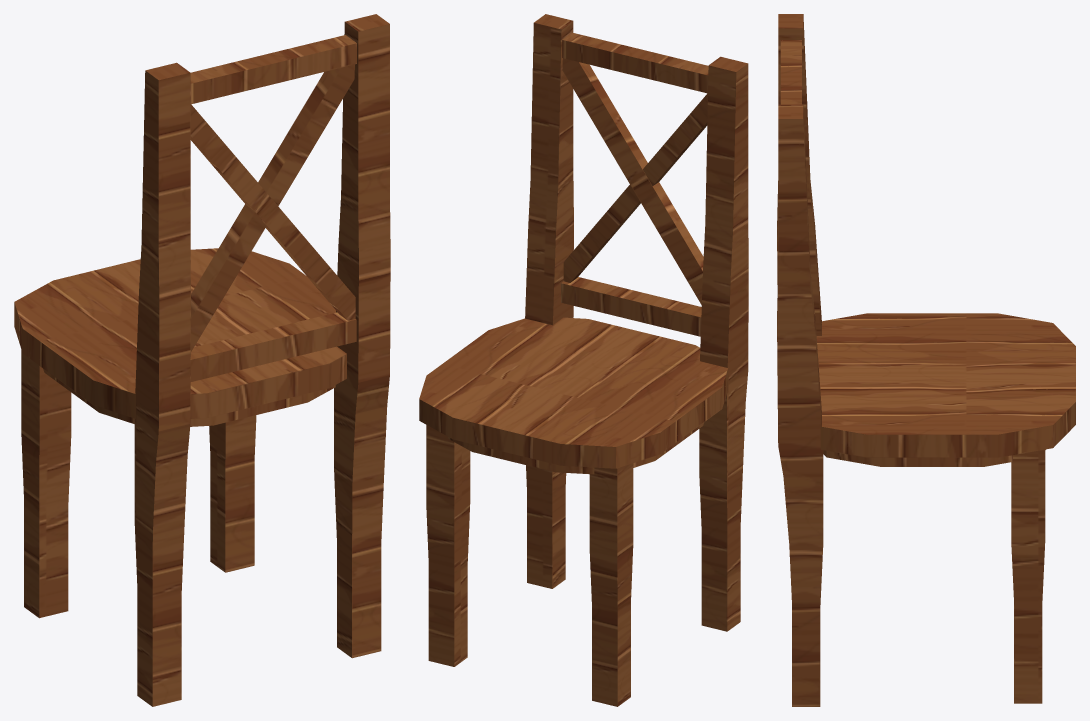
Rendered from ARC0710005.fbx.
The picture shows the model from 3 angles, left to right: view 1: azimuth 30°, elevation 25°; view 2: azimuth 150°, elevation 25°; view 3: azimuth 270°, elevation 25°; orthographic projection. The views are drawn at different scales.
Visible parts, largest first — view 1: smARC0710005; view 2: smARC0710005; view 3: smARC0710005.
Boxes of the visible parts, x1,y1,x2,y2 form: smARC0710005: (14, 14, 390, 706); smARC0710005: (419, 14, 748, 706); smARC0710005: (777, 14, 1075, 706).
Size of the model in its own units: 57.71 by 131 by 60.14.
Materials: 1 (1 with a texture image).
